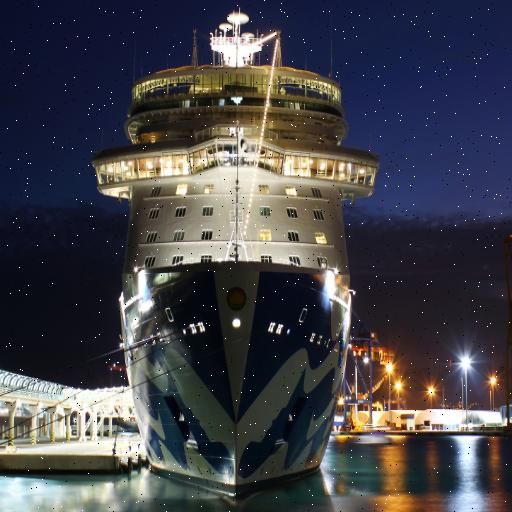cruises: (79, 1, 388, 501)
